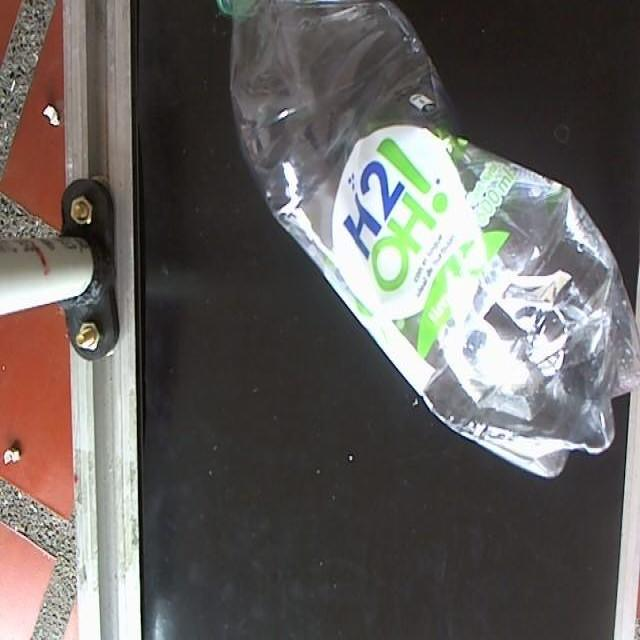defect: (214, 0, 640, 482)
